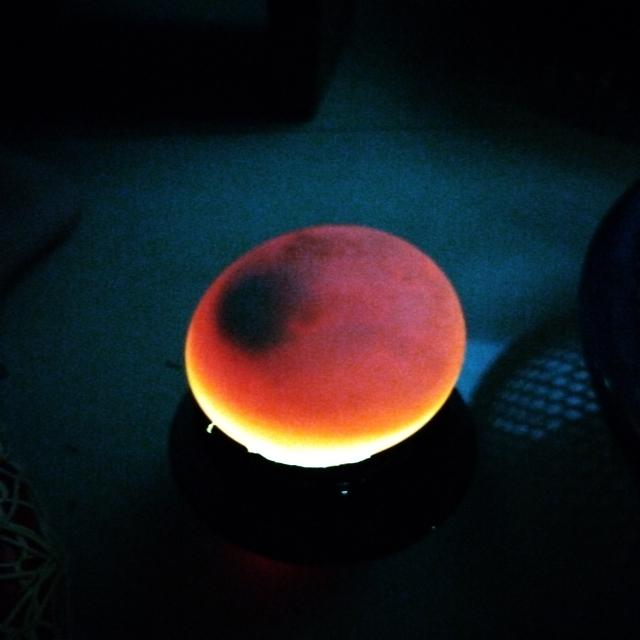Area Infectada: (213, 234, 336, 360)
